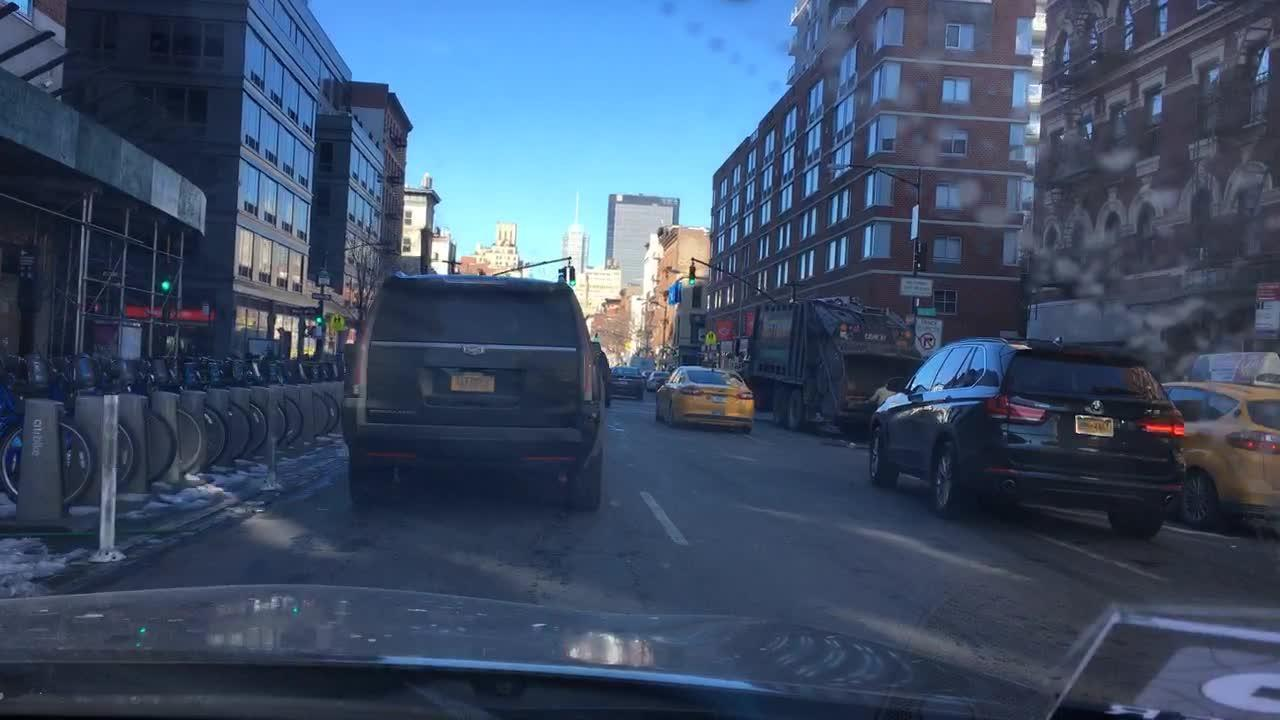bmw: (1087, 394, 1108, 418)
cadillac: (460, 340, 490, 360)
